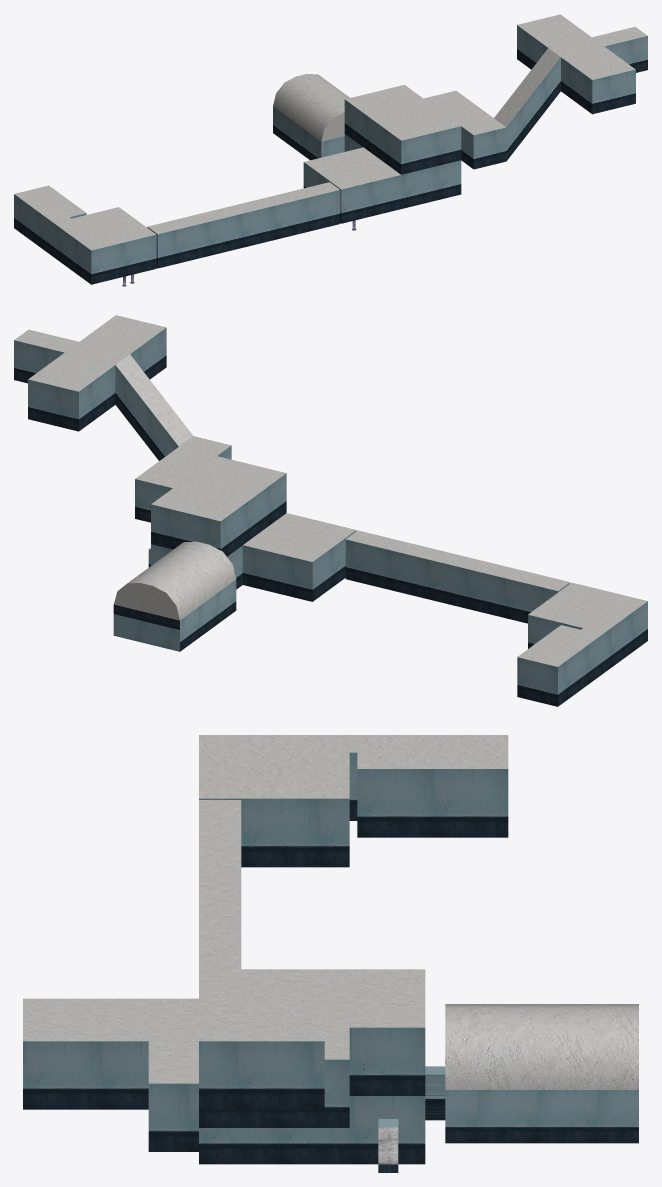
Rendered from bunker.glb.
3 renders of one model, top to bottom at view 1: azimuth 30°, elevation 25°; view 2: azimuth 150°, elevation 25°; view 3: azimuth 270°, elevation 25°, orthographic. The views are drawn at different scales.
Visible parts, largest first — view 1: bunker; view 2: bunker; view 3: bunker.
Part boxes in pixels (x1=…): bunker: x1=14, y1=14, x2=647, y2=286; bunker: x1=14, y1=315, x2=647, y2=706; bunker: x1=23, y1=735, x2=638, y2=1172.
Bounding box in the file's own units: 49.98 × 11.9 × 24.5.
Materials: 4 (4 with a texture image).
